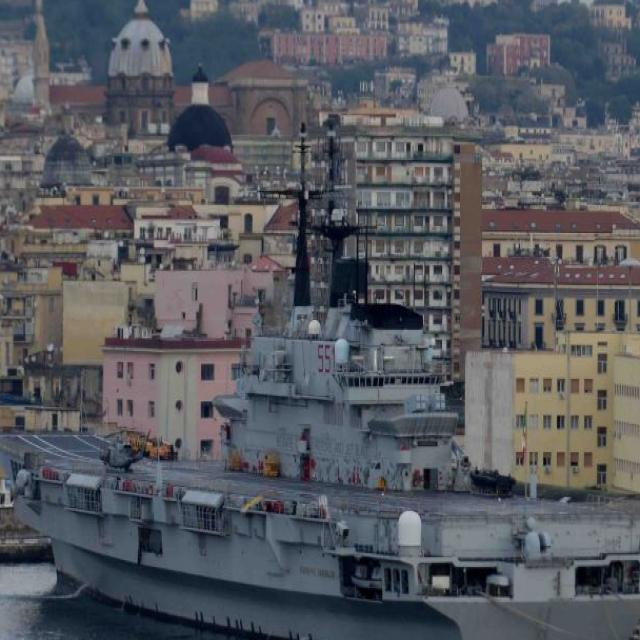Portanaves: (1, 126, 640, 640)
